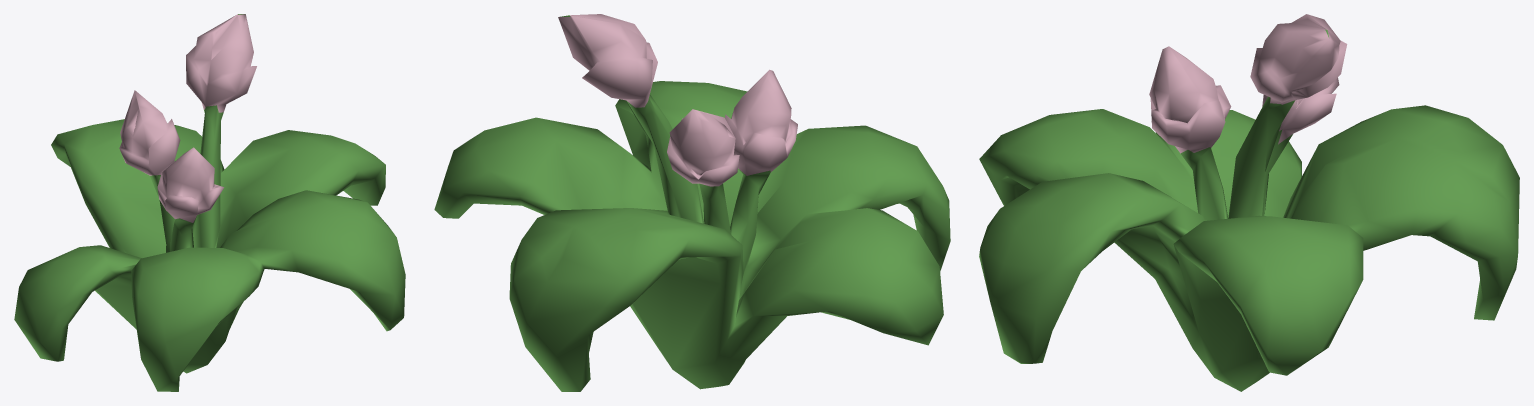
The model's file is tomori-scent-plant-game.glb.
3 renders of one model, left to right at view 1: azimuth 30°, elevation 25°; view 2: azimuth 150°, elevation 25°; view 3: azimuth 270°, elevation 25°, orthographic. The views are drawn at different scales.
Visible parts, largest first — view 1: Mesh_0; view 2: Mesh_0; view 3: Mesh_0.
Boxes of the visible parts, left/top/right/bottom form: Mesh_0: left=14, top=14, right=405, bottom=391; Mesh_0: left=434, top=14, right=950, bottom=391; Mesh_0: left=979, top=14, right=1519, bottom=391.
Bounding box in the file's own units: 1.27 × 1 × 1.2.
